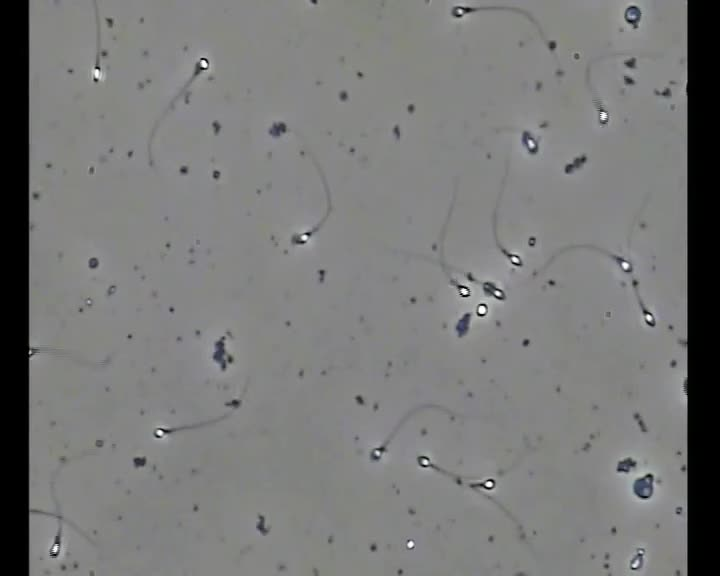spermhead: (482, 281, 505, 300), (521, 130, 538, 154), (624, 5, 641, 26), (614, 255, 632, 273), (470, 478, 495, 490), (291, 231, 311, 244), (451, 5, 471, 18), (49, 537, 61, 557), (505, 252, 522, 266), (195, 57, 209, 73), (597, 106, 609, 124), (643, 309, 655, 326), (153, 427, 171, 438), (370, 446, 384, 460), (91, 65, 102, 82), (456, 284, 470, 297), (225, 398, 241, 409), (417, 455, 430, 467), (476, 303, 488, 316), (29, 346, 36, 357), (683, 377, 687, 395)
